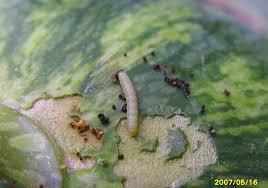Armyworm: (111, 64, 146, 140)
